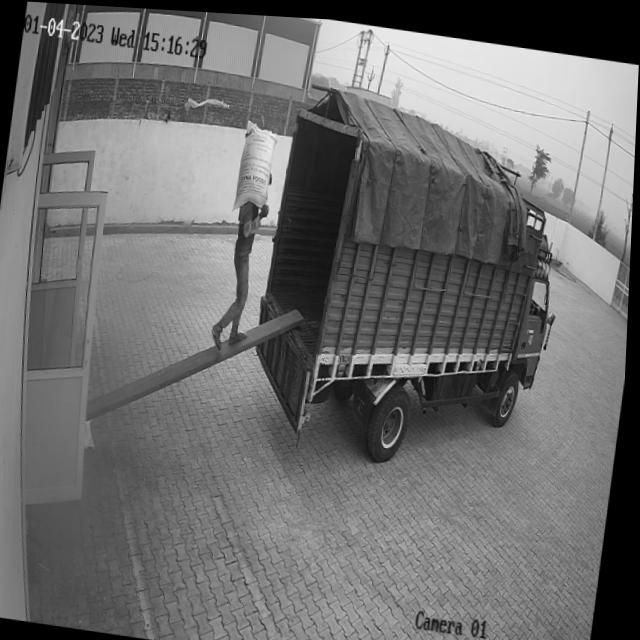sack: (233, 116, 280, 211)
